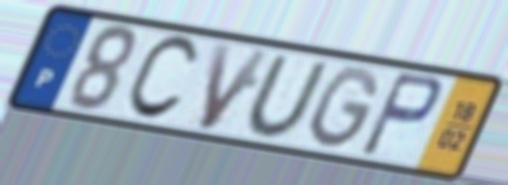8: (64, 22, 142, 115)
C: (121, 33, 202, 124)
G: (306, 63, 383, 153)
P: (355, 69, 447, 161)
U: (245, 53, 333, 143)
V: (196, 40, 276, 134)
